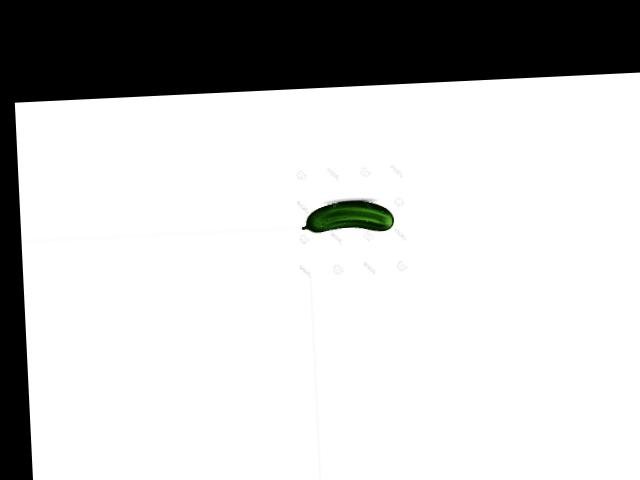cucumber: (301, 198, 394, 234)
